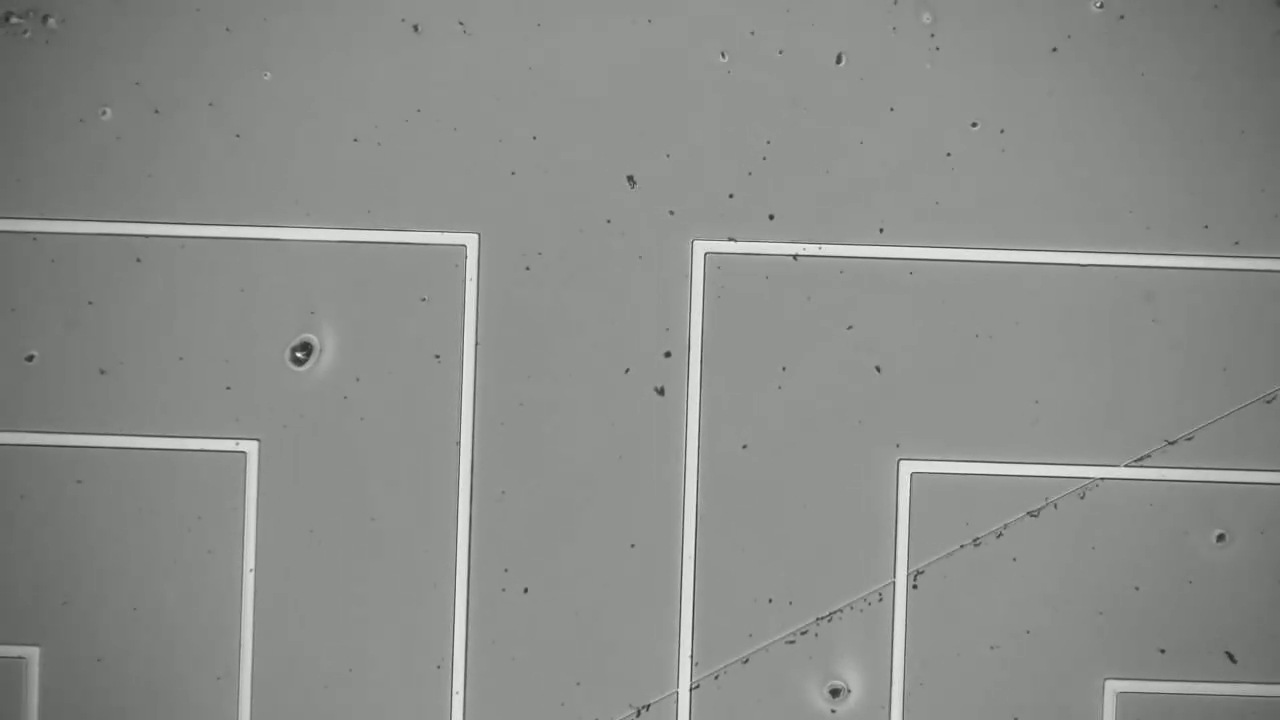scratch: (624, 391, 1277, 711)
